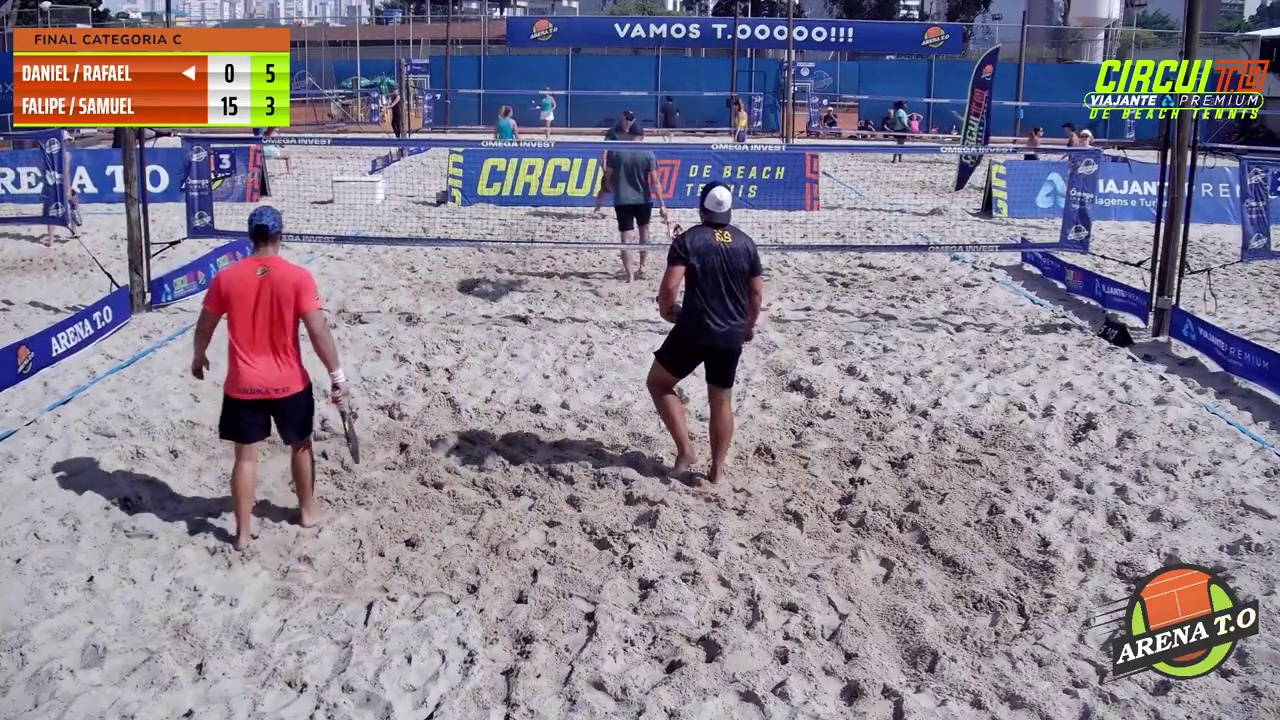court_line: (384, 0, 570, 519), (542, 0, 669, 495)
